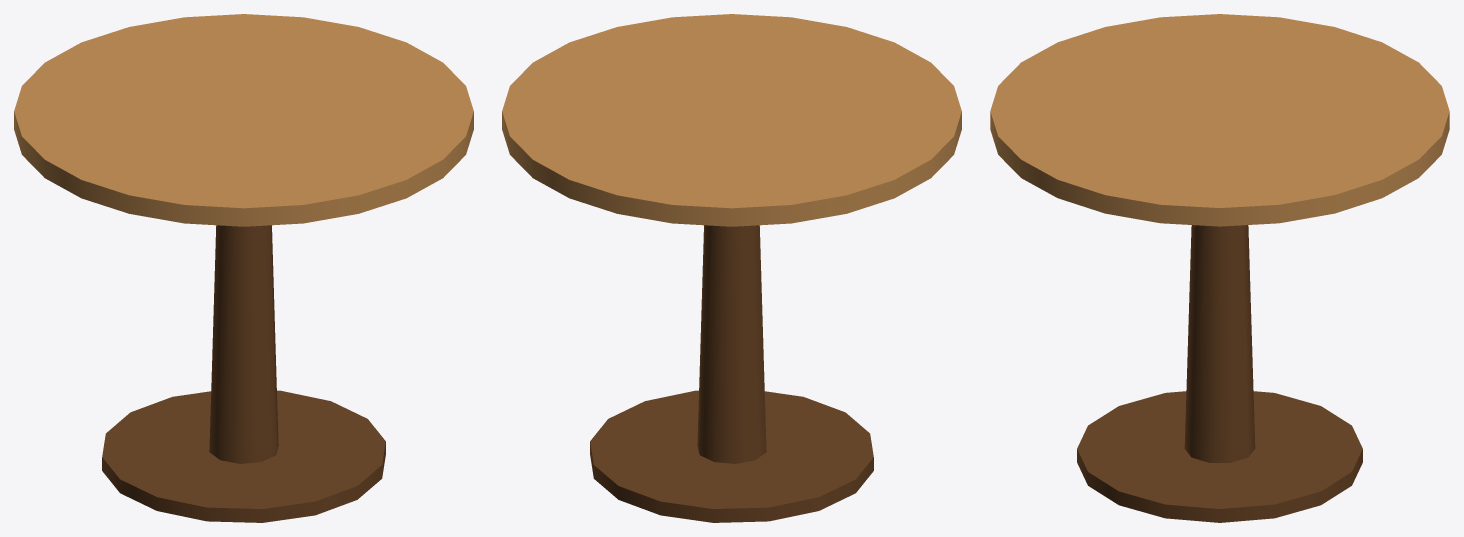
Rendered from table-round.obj.
3 views of the same model, side by side, from view 1: azimuth 30°, elevation 25°; view 2: azimuth 150°, elevation 25°; view 3: azimuth 270°, elevation 25° (orthographic).
Visible parts, largest first — view 1: table-round_0, table-round_2, table-round_1; view 2: table-round_0, table-round_2, table-round_1; view 3: table-round_0, table-round_2, table-round_1.
Part boxes in pixels (x1,y1,x2,y2): table-round_0: (14, 14, 473, 226); table-round_2: (102, 390, 385, 522); table-round_1: (209, 225, 278, 463); table-round_0: (502, 14, 961, 226); table-round_2: (590, 390, 873, 522); table-round_1: (697, 225, 766, 463); table-round_0: (990, 14, 1449, 226); table-round_2: (1077, 391, 1362, 522); table-round_1: (1184, 225, 1255, 462).
Bounding box in the file's own units: 0.9 × 0.76 × 0.9.
